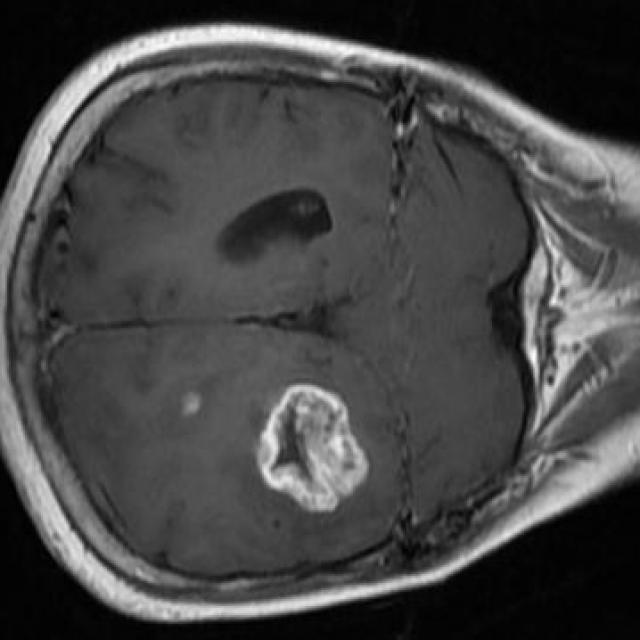glioma: (255, 383, 371, 513)
